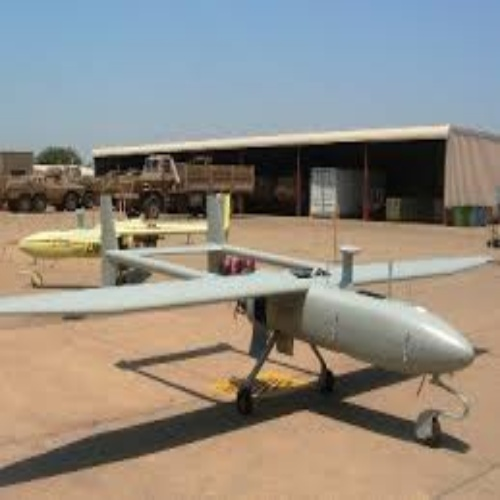uav83: (2, 197, 494, 443)
